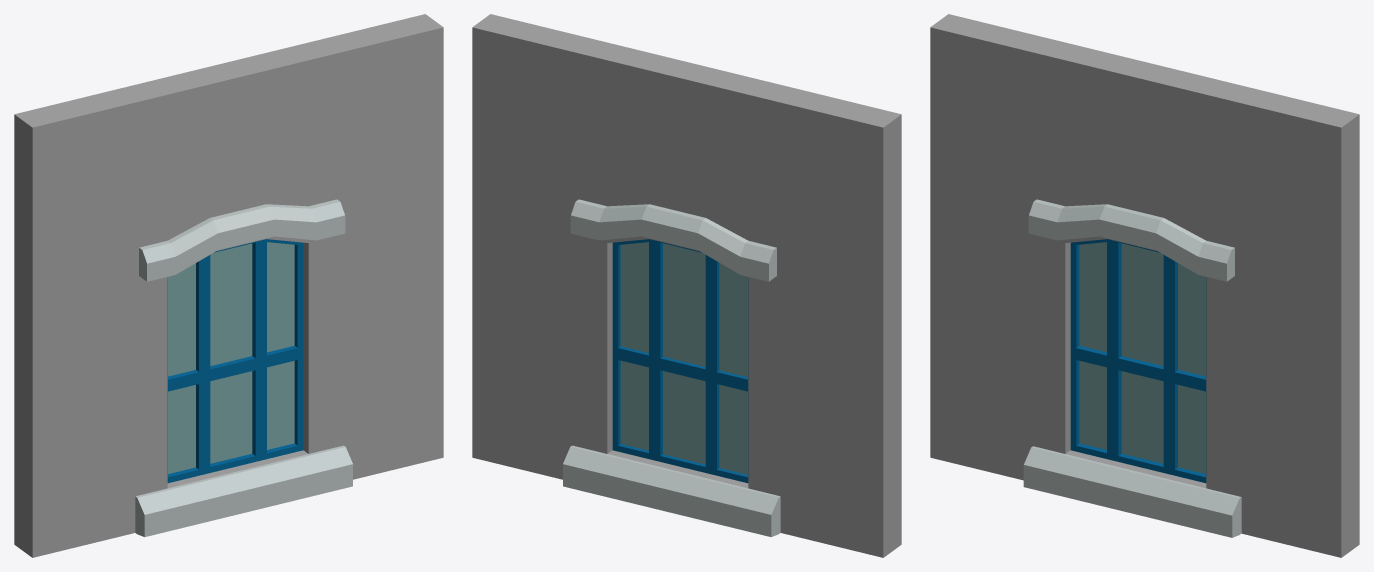
The model's file is NY_Street_Window_04.fbx.
3 views of the same model, side by side, from view 1: azimuth 30°, elevation 25°; view 2: azimuth 150°, elevation 25°; view 3: azimuth 330°, elevation 25° (orthographic).
Visible parts, largest first — view 1: NY_Street_Window_04; view 2: NY_Street_Window_04; view 3: NY_Street_Window_04.
Part boxes in pixels (<box>): NY_Street_Window_04: <box>14,14,443,557</box>; NY_Street_Window_04: <box>472,14,901,557</box>; NY_Street_Window_04: <box>930,14,1359,557</box>.
Bounding box in the file's own units: 400 × 400 × 62.16.
